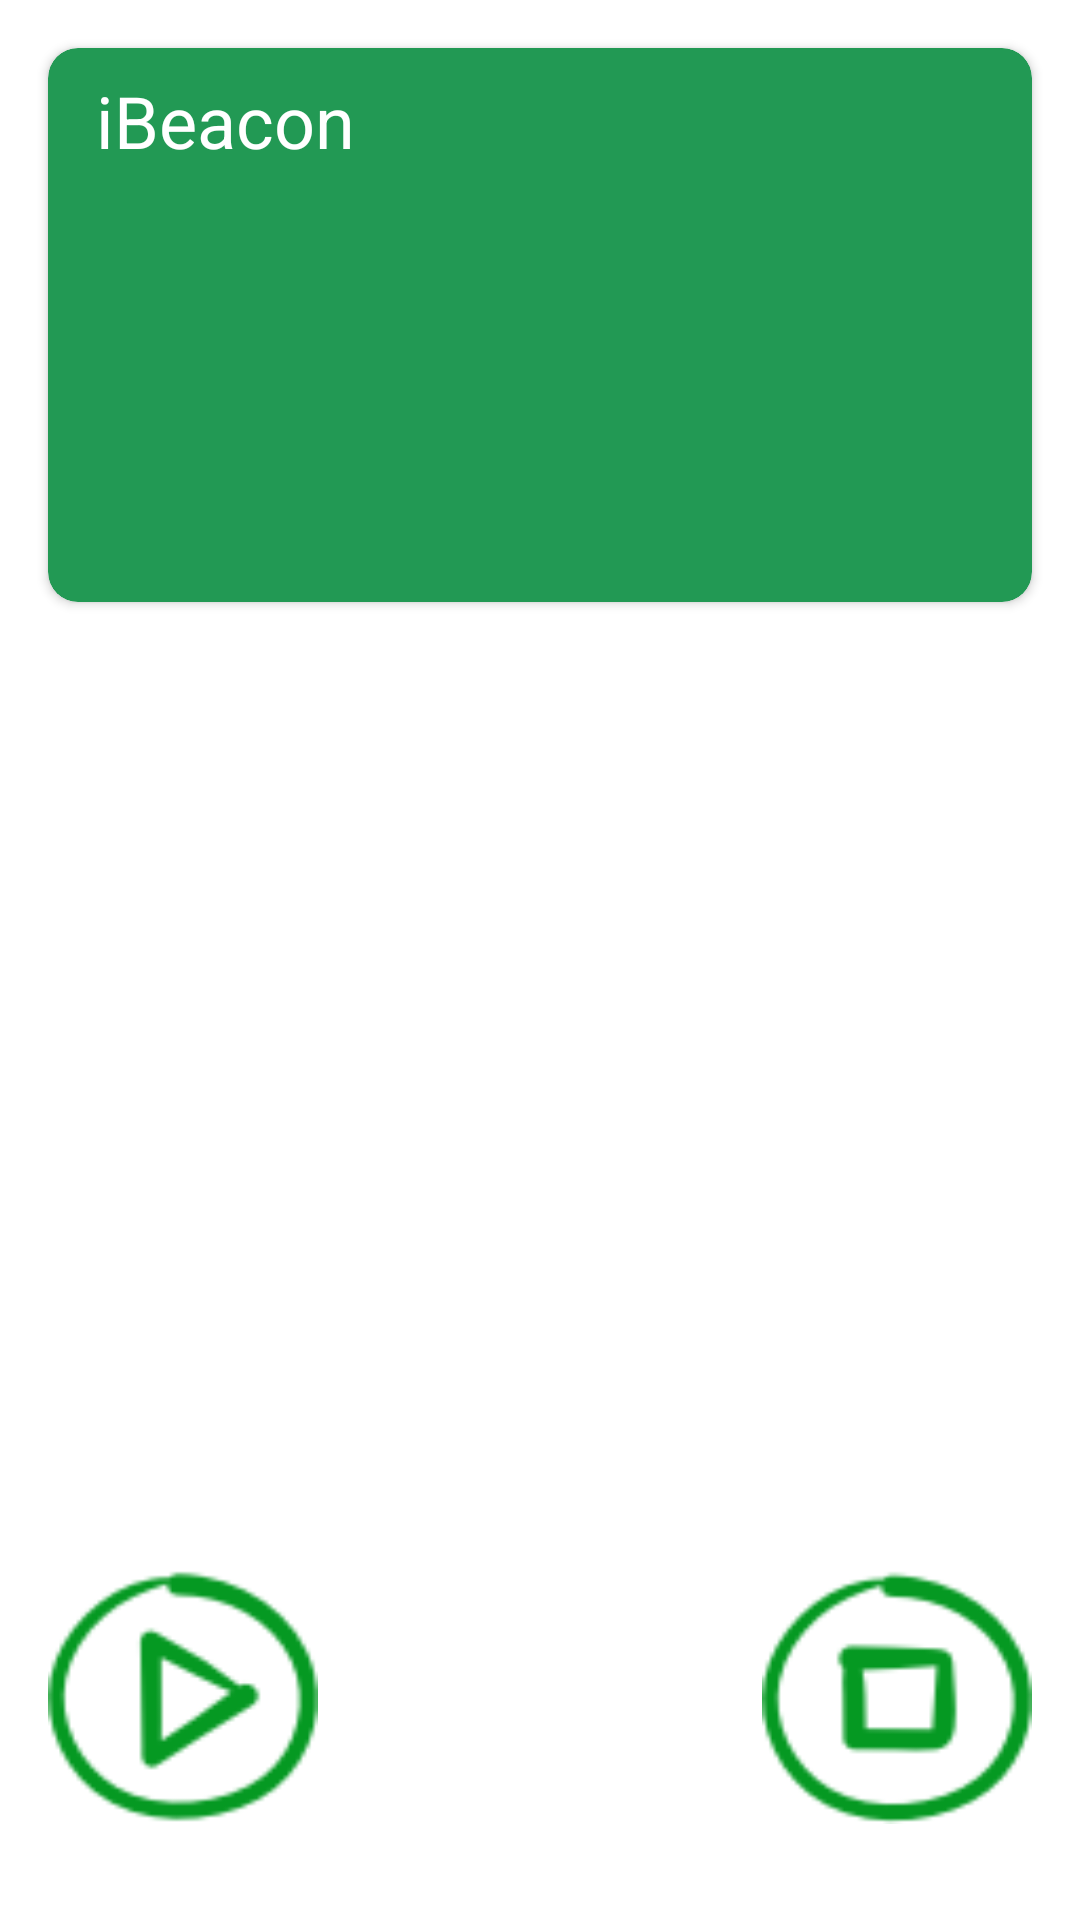

Icons on this 1080px×1920px Android screen, each with the point to tap as point (x, y):
play: point (183, 1696)
stop: point (897, 1698)
